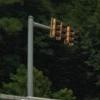Traffic light: (41, 12, 77, 49)
